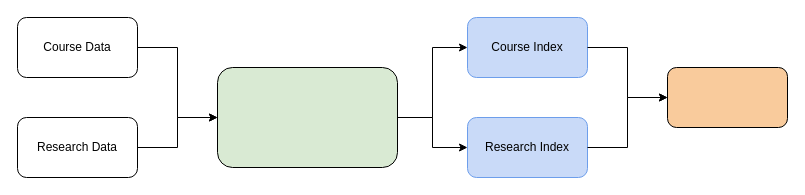
This 805x195 diagram has some shape labels left out. Each missing label, with the box of its shape:
Application: (666, 66, 788, 128)
Azure Cognitive Search: (216, 66, 398, 168)
